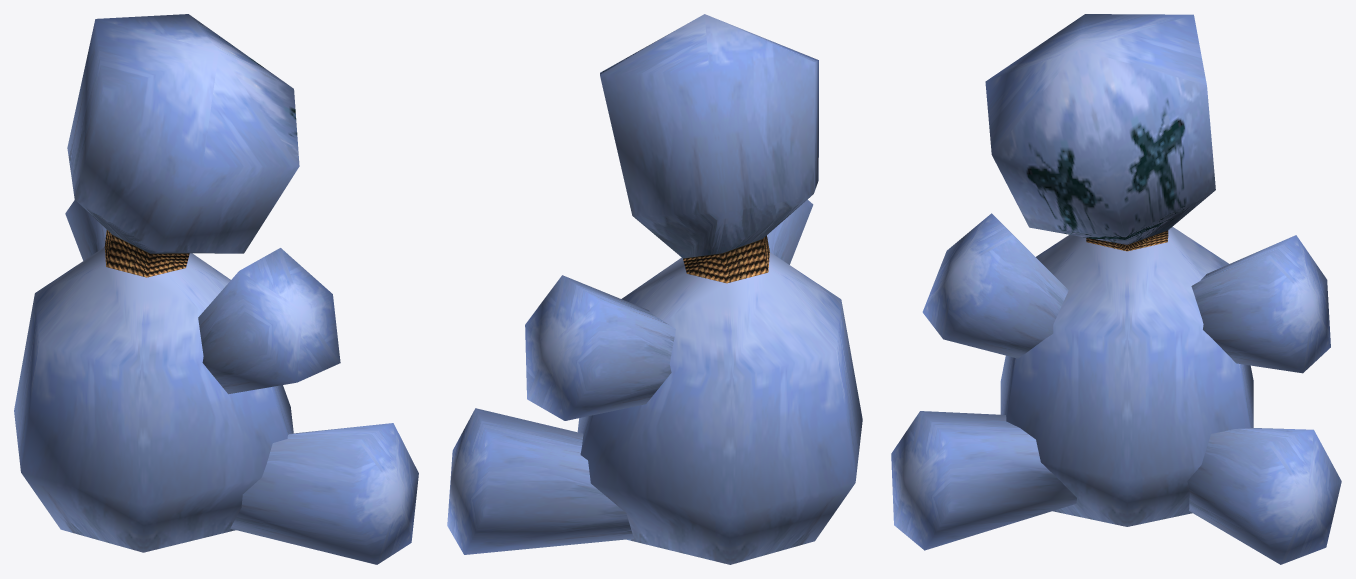
File: ragdoll_05.obj
The picture shows the model from 3 angles, left to right: view 1: azimuth 30°, elevation 25°; view 2: azimuth 150°, elevation 25°; view 3: azimuth 270°, elevation 25°; orthographic projection. The views are drawn at different scales.
Visible parts, largest first — view 1: ragdoll_05; view 2: ragdoll_05; view 3: ragdoll_05.
Part boxes in pixels (left/top/right/bottom): ragdoll_05: left=14, top=14, right=418, bottom=564; ragdoll_05: left=447, top=14, right=862, bottom=564; ragdoll_05: left=891, top=14, right=1341, bottom=564.
Size of the model in its own units: 0.6128 by 0.8309 by 0.7459.
Materials: 1 (1 with a texture image).
